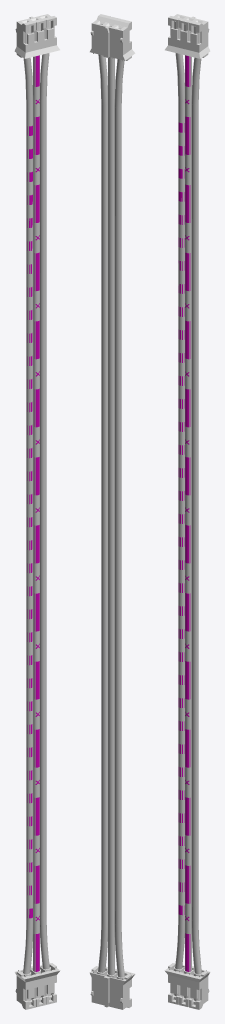
The model's file is cable_JST_1x3_2.00mm.glb.
3 views of the same model, side by side, from view 1: azimuth 30°, elevation 25°; view 2: azimuth 150°, elevation 25°; view 3: azimuth 330°, elevation 25° (orthographic).
Visible parts, largest first — view 1: Solid3, Solid4, Solid1, Solid2; view 2: Solid3, Solid1; view 3: Solid3, Solid4, Solid1, Solid2.
Boxes of the visible parts, x1,y1,x2,y2 form: Solid3: [23, 53, 49, 974]; Solid4: [27, 55, 39, 971]; Solid1: [14, 14, 60, 1009]; Solid2: [22, 21, 50, 1000]; Solid3: [98, 54, 124, 977]; Solid1: [89, 14, 135, 1009]; Solid3: [175, 53, 201, 974]; Solid4: [178, 55, 190, 971]; Solid1: [164, 14, 210, 1009]; Solid2: [174, 21, 202, 1000].
Bounding box in the file's own units: 0.0078 × 0.2054 × 0.0044.
